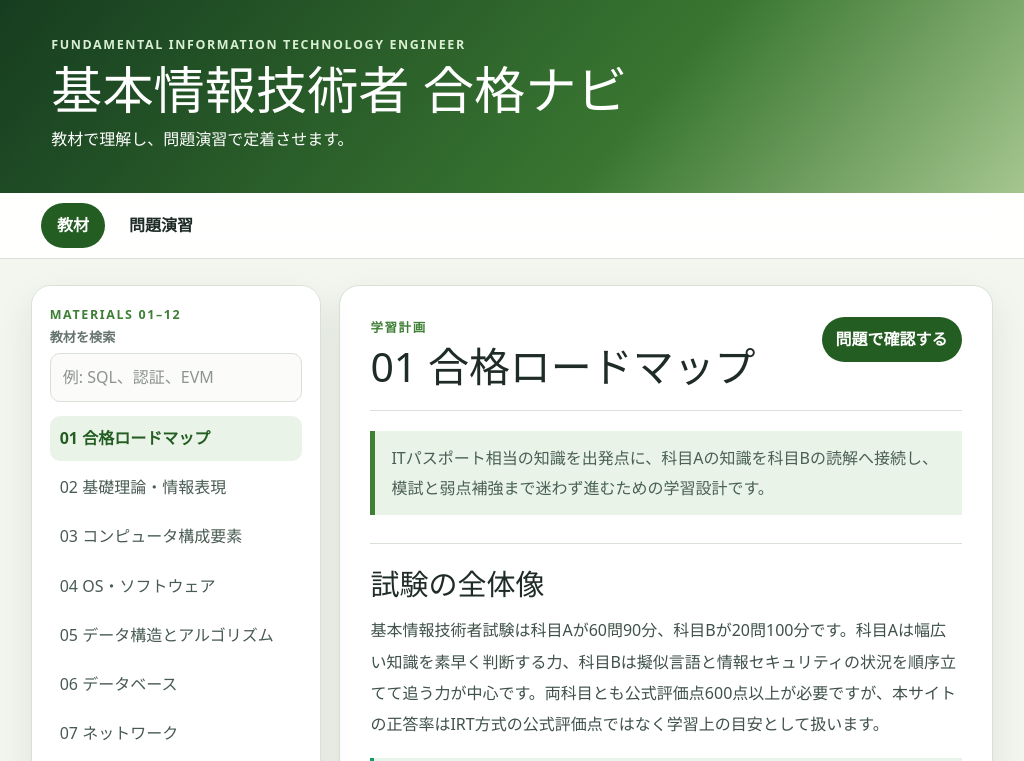
Test case: 教材リーダー › 検索語に一致する章だけを一覧へ残す
Type "SQL" into the search field labelled "教材を検索" at (176, 378), box [50,353,302,402]
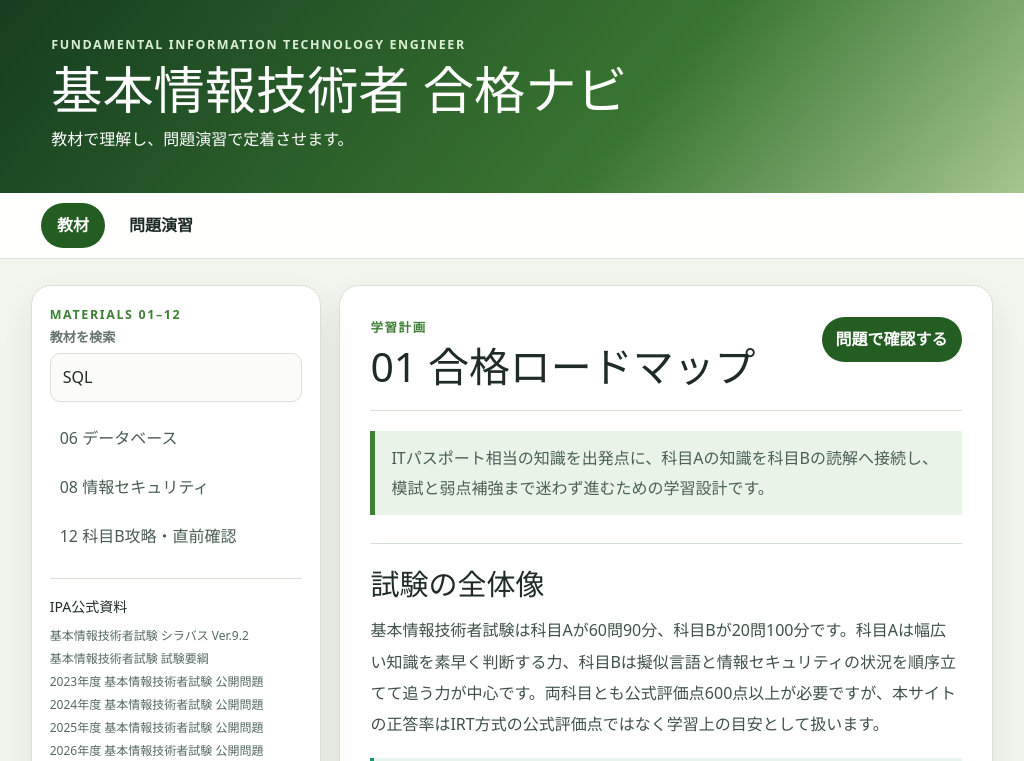
Expected: the link "06 データベース" is shown, [60,427,177,449]
Result: the link "03 コンピュータ構成要素" is gone
